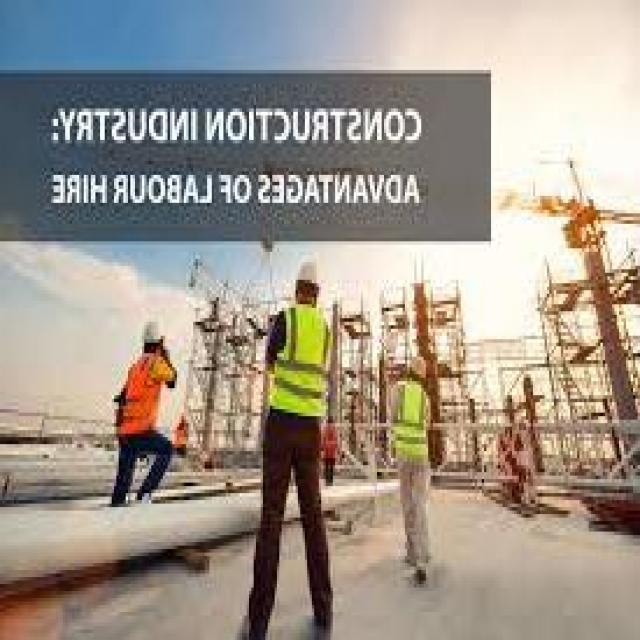Reflective-Jacket: (258, 304, 342, 437), (110, 353, 180, 455), (384, 378, 438, 476)
Safety-Helmet: (286, 248, 328, 301), (130, 308, 172, 360)
